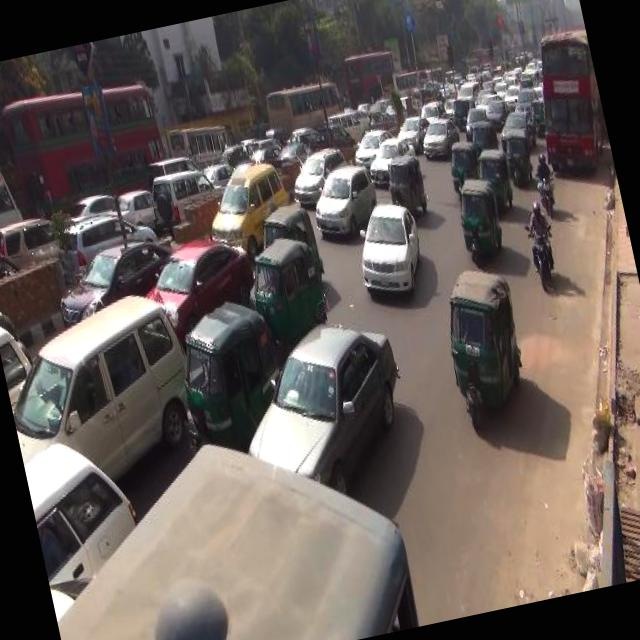bus: (27, 409, 423, 640), (0, 66, 171, 217), (520, 15, 613, 178), (258, 73, 348, 145), (160, 116, 236, 186), (340, 41, 400, 108), (0, 148, 25, 236), (377, 61, 420, 98), (419, 66, 442, 84)
car: (225, 308, 418, 511), (20, 426, 146, 582), (138, 226, 262, 334), (44, 228, 186, 322), (344, 192, 434, 318), (50, 205, 162, 279), (308, 157, 382, 241), (145, 160, 227, 224), (0, 207, 65, 276), (285, 144, 352, 209), (0, 314, 43, 410), (365, 132, 419, 188), (393, 104, 436, 166), (368, 134, 421, 184), (496, 99, 540, 157), (344, 122, 395, 172), (61, 186, 119, 226), (418, 112, 462, 164), (112, 182, 156, 233), (458, 100, 492, 144), (274, 132, 314, 166), (514, 80, 540, 124), (418, 95, 446, 125), (500, 75, 520, 115), (0, 240, 18, 284), (474, 78, 496, 114), (250, 142, 280, 165), (520, 61, 537, 86)
motorcycle: (431, 254, 540, 452), (164, 284, 290, 449), (242, 230, 326, 336), (253, 192, 325, 288), (449, 169, 511, 276), (382, 146, 430, 224), (471, 137, 516, 212), (524, 224, 564, 298), (442, 130, 482, 198), (502, 125, 534, 188), (464, 114, 498, 158), (532, 171, 560, 213), (449, 92, 470, 124)
truck: (0, 284, 200, 471), (196, 154, 306, 266), (145, 146, 199, 186), (328, 103, 364, 141), (454, 73, 481, 107)
